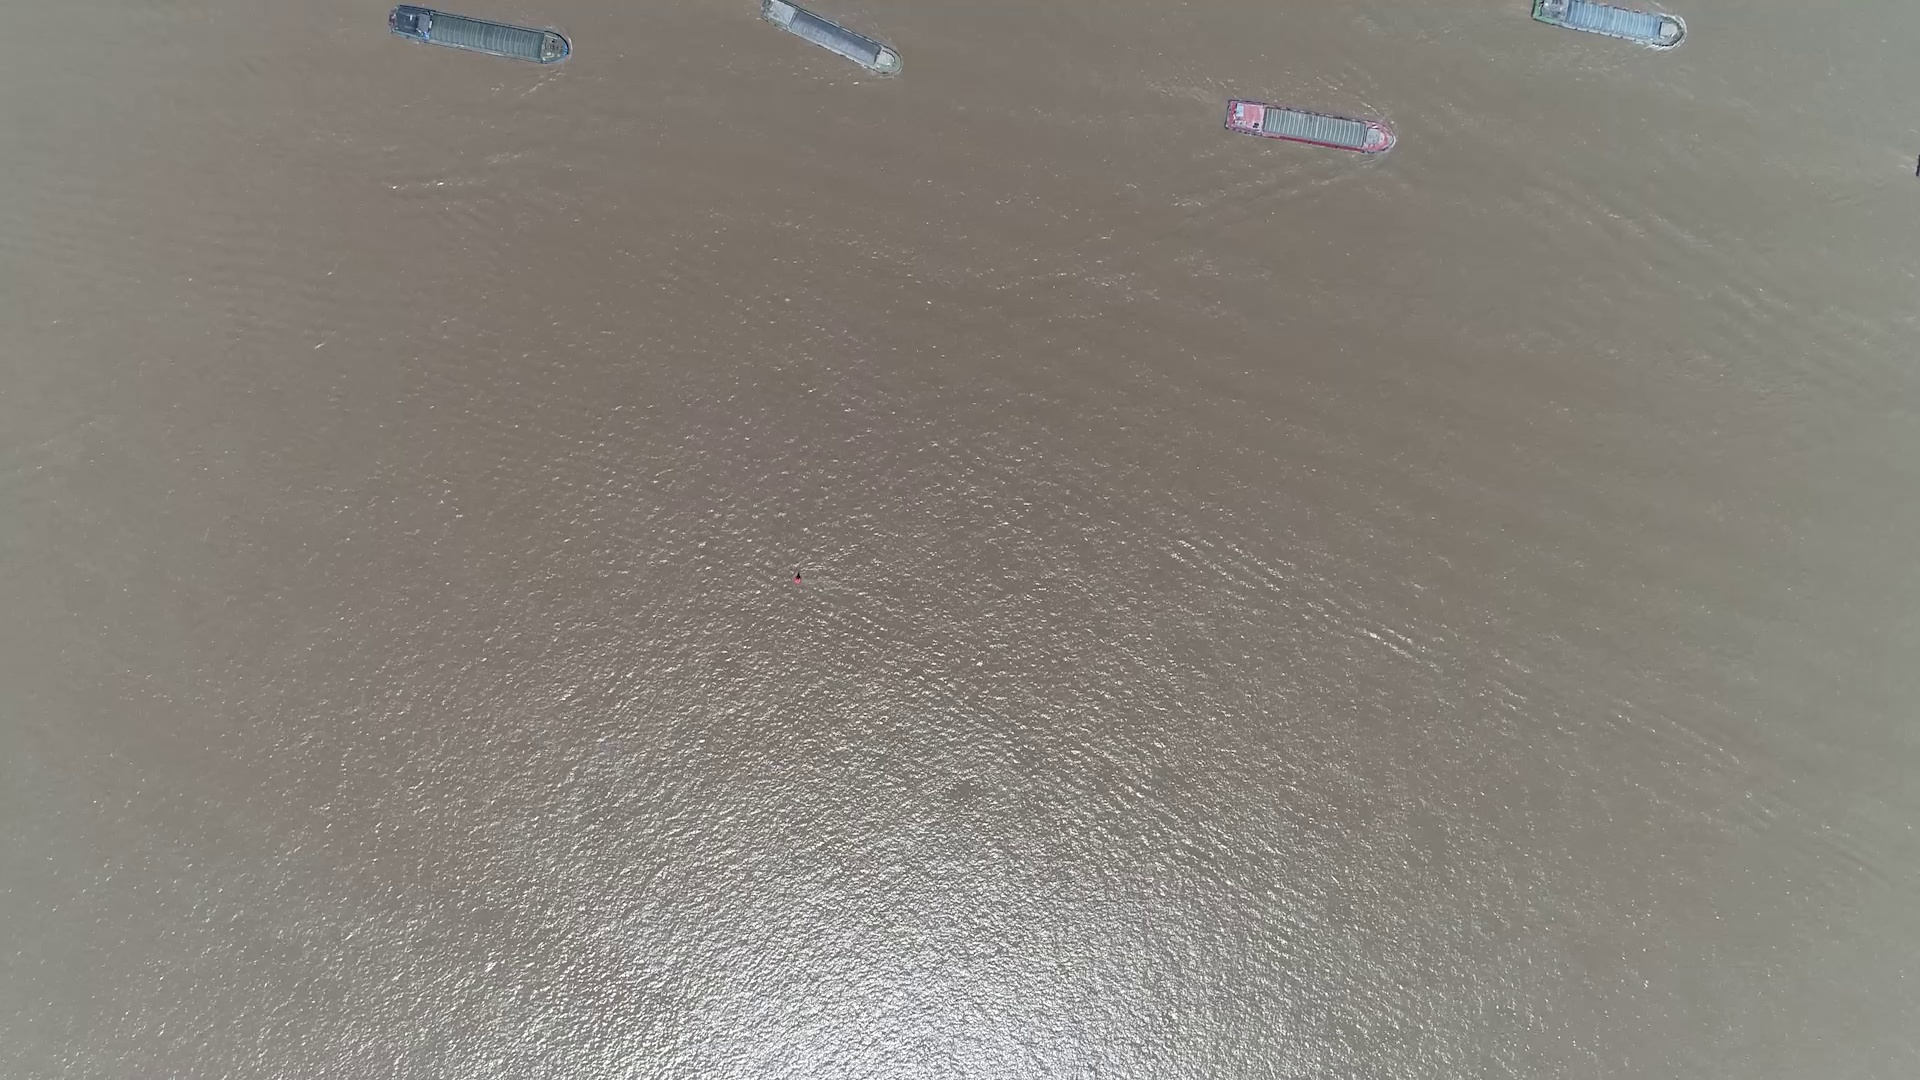ship: (390, 4, 572, 65), (761, 0, 901, 73), (1222, 102, 1396, 156), (1530, 0, 1685, 47)
